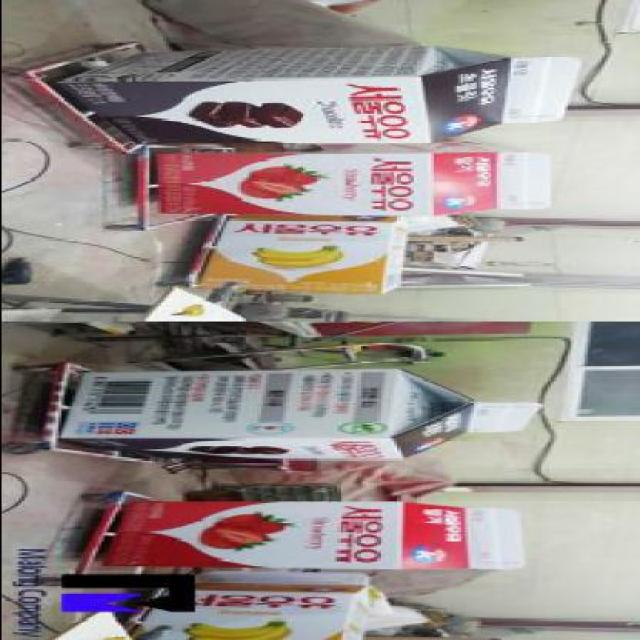non_white_jug: (64, 43, 590, 145), (56, 364, 559, 467), (111, 500, 526, 572), (145, 150, 564, 218)
